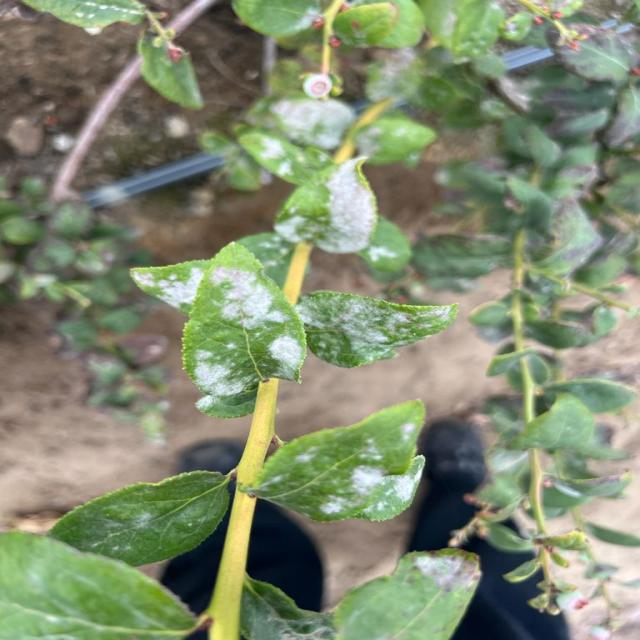Hojas con oidiosis: (0, 543, 196, 640), (177, 256, 300, 397), (257, 422, 425, 522), (340, 555, 480, 640), (284, 166, 371, 253), (279, 78, 357, 150)
